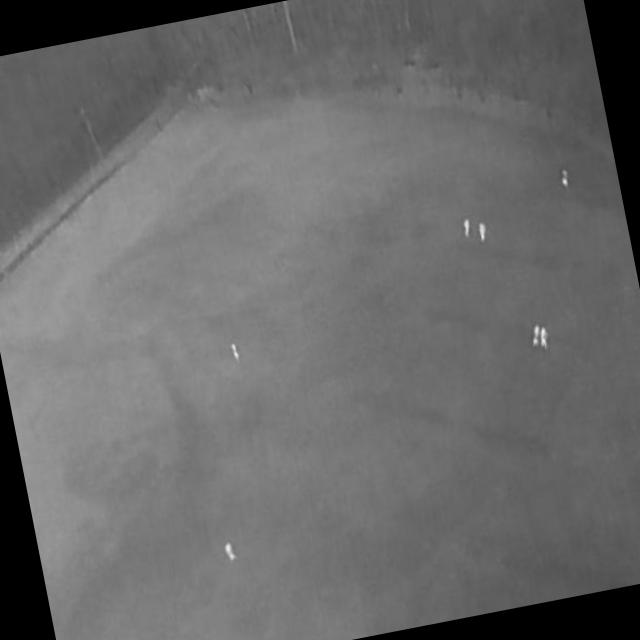person: (223, 541, 238, 564), (529, 325, 543, 349), (537, 329, 550, 351), (478, 224, 489, 244), (462, 218, 473, 238), (230, 344, 241, 364), (560, 169, 570, 190)
